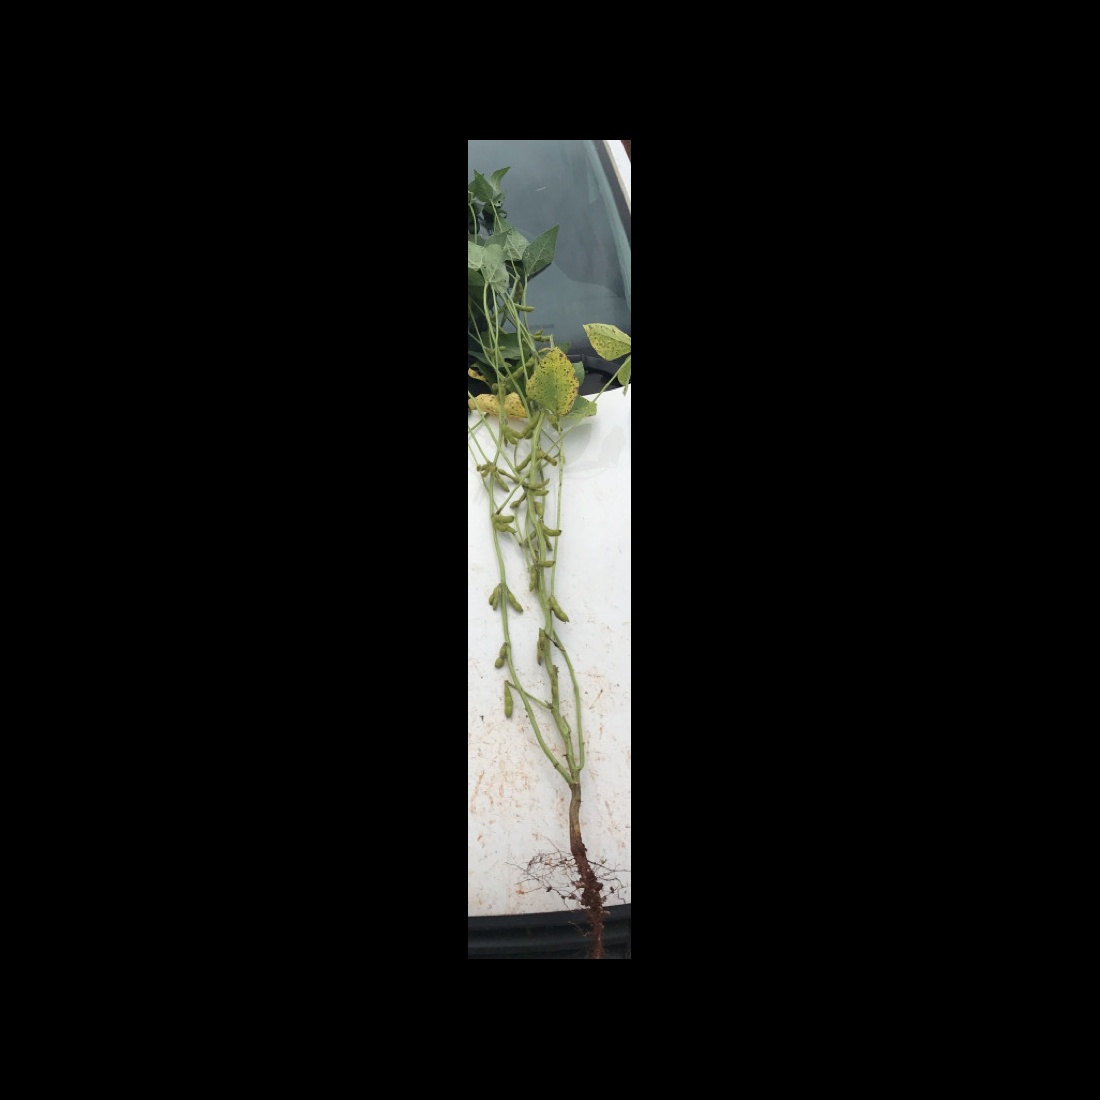pod: (552, 596, 571, 623), (492, 642, 508, 672), (503, 682, 515, 721), (507, 589, 523, 614), (493, 469, 510, 493), (503, 423, 520, 445), (513, 453, 531, 472), (493, 515, 518, 525), (542, 525, 562, 537)
soy: (473, 190, 629, 911)
